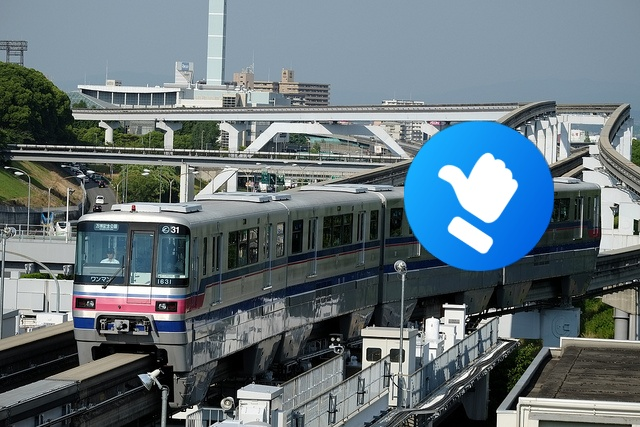like: (404, 121, 554, 271)
